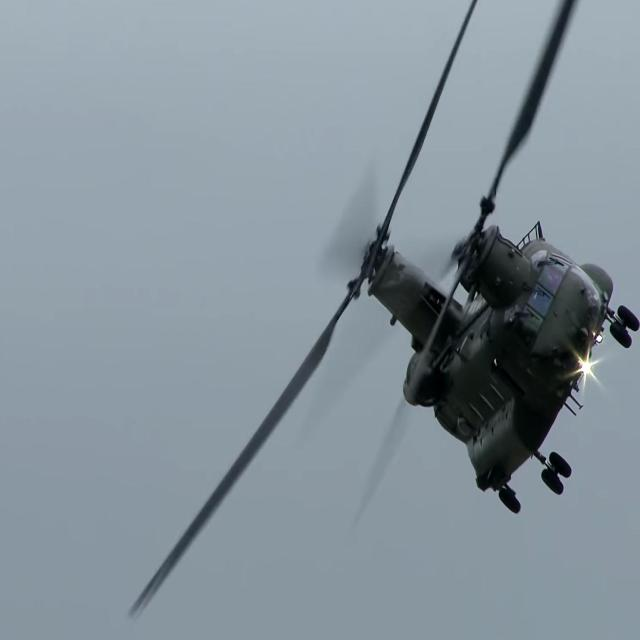Helicopter: (307, 114, 638, 525)
